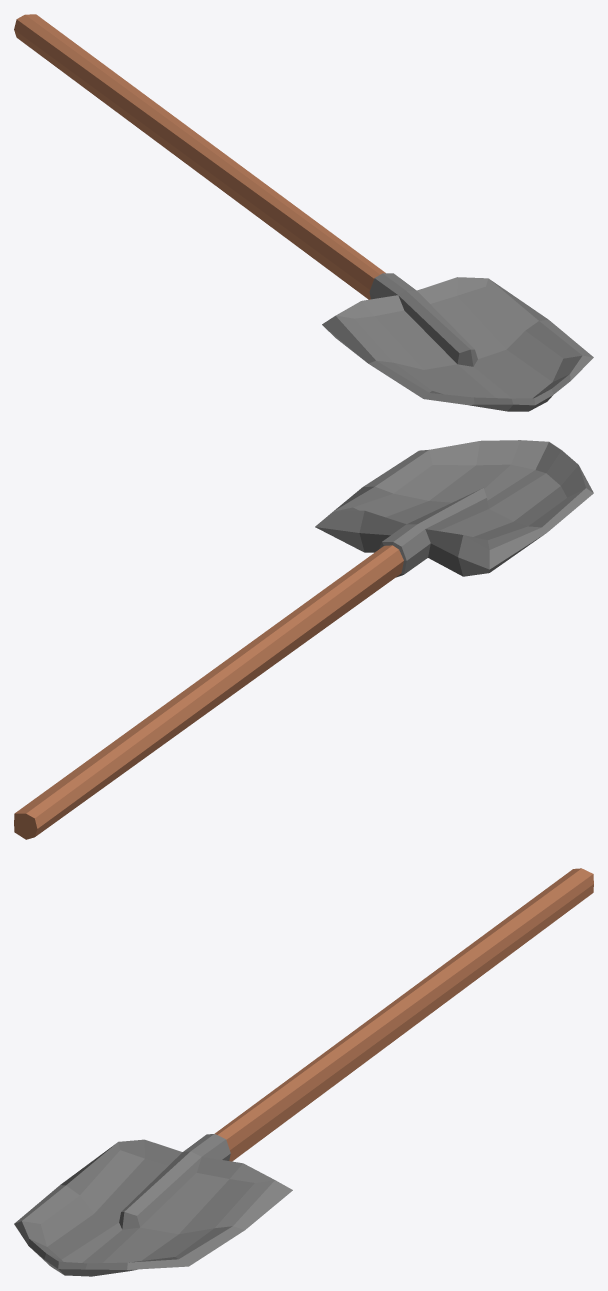
Rendered from low_poly_pirate_shovel.glb.
3 views of the same model, one above another, from view 1: azimuth 30°, elevation 25°; view 2: azimuth 150°, elevation 25°; view 3: azimuth 330°, elevation 25° (orthographic). The views are drawn at different scales.
Visible parts, largest first — view 1: Box001; view 2: Box001; view 3: Box001.
Boxes of the visible parts, <box> form: Box001: <box>14,14,593,411</box>; Box001: <box>14,440,593,839</box>; Box001: <box>14,868,593,1276</box>.
Size of the model in its own units: 1.15 by 0.2842 by 5.63.
Materials: 1 (1 with a texture image).
